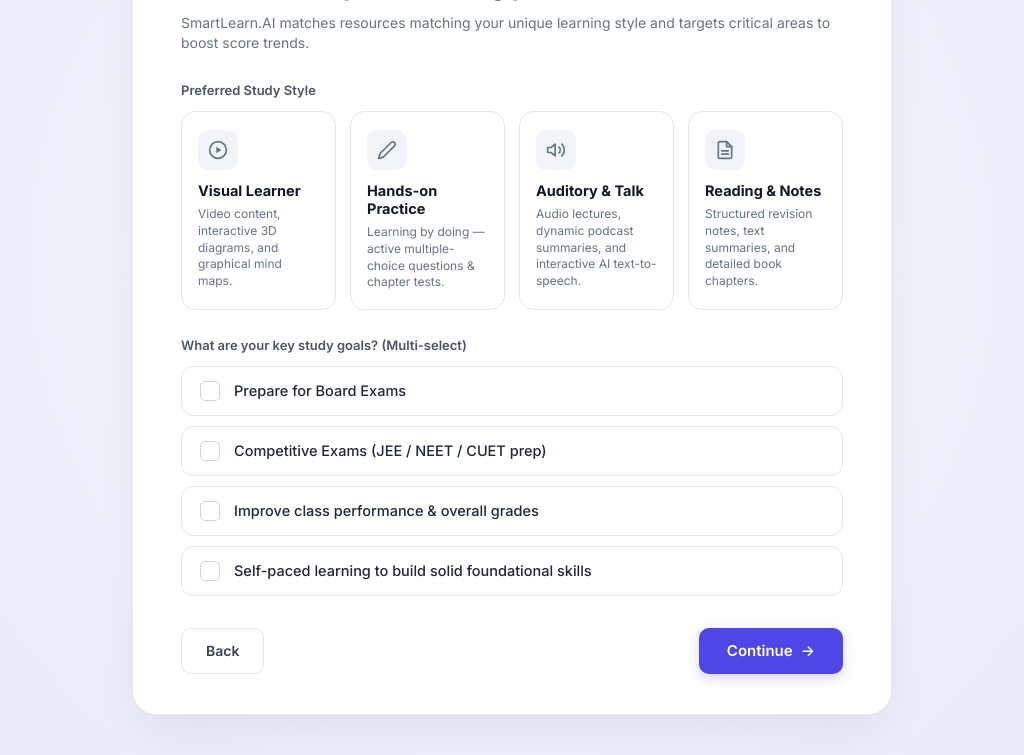
Test: Step3Page Component (Onboarding Step 3 of 4: Style & Goals) › 3. Required preference fields are validated before Continue
The width and height of the screenshot is (1024, 755).
(page scrolled)
# Click Continue without selecting anything
Click the button "Continue →" at (771,651), box [699,628,843,674]
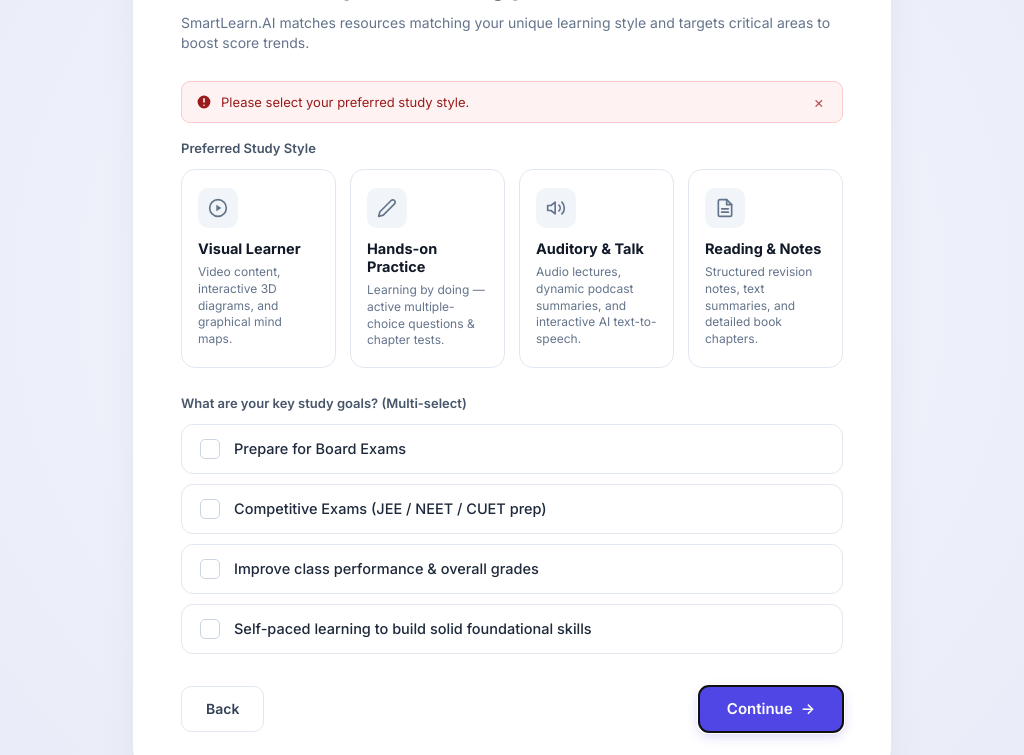
Check: the text "Please select your preferred study style." is shown, box [221,93,469,112]
